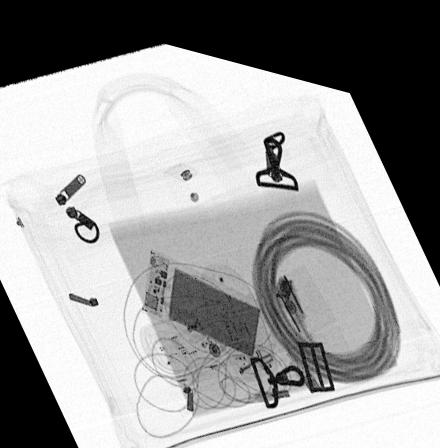Powerbank: (143, 240, 280, 358)
